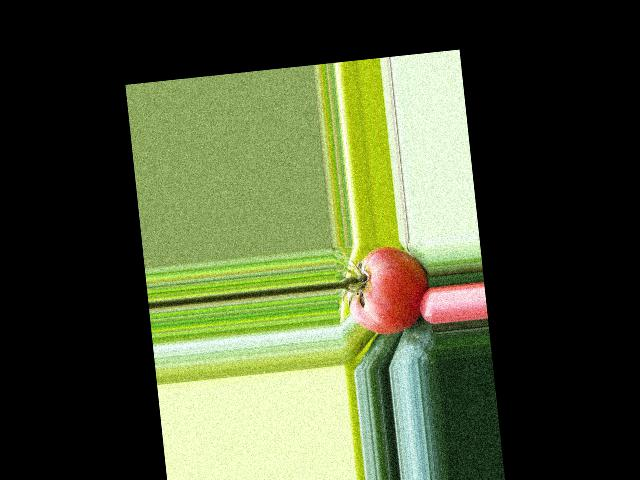tomato: (343, 242, 433, 337)
